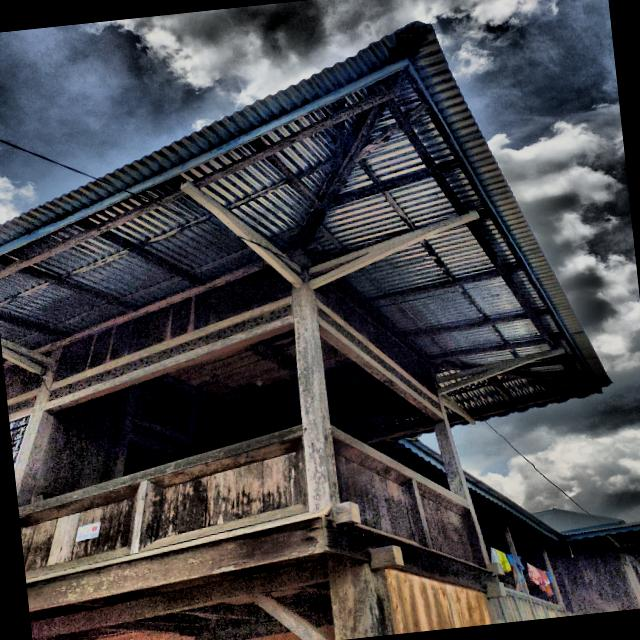ornamen: (139, 434, 311, 551), (20, 482, 135, 578), (332, 435, 428, 547), (416, 479, 486, 569)
roof: (0, 19, 612, 426), (398, 438, 640, 542)
wall: (384, 569, 491, 634)
